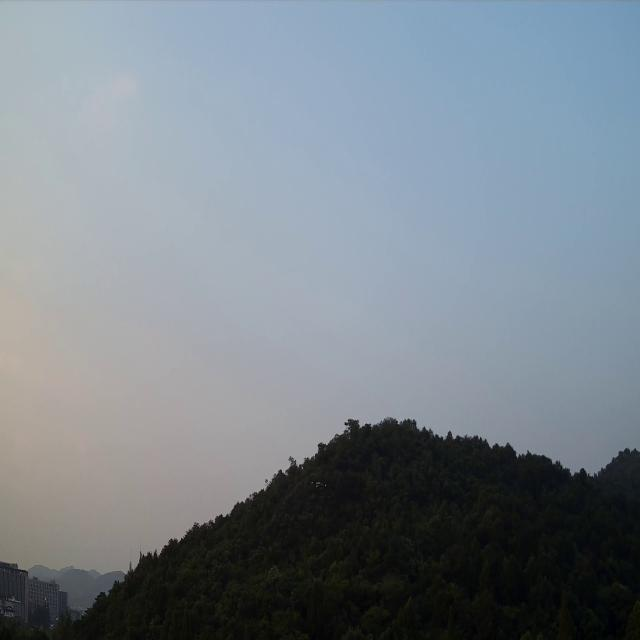UAV: (310, 479, 328, 490)
